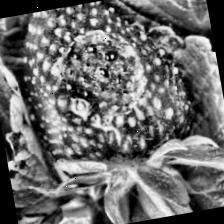Anthracnose Fruit Rot: (46, 21, 156, 128)
